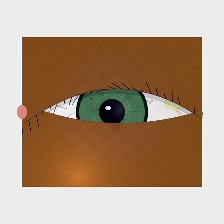pinguecula_lesion: (153, 86, 198, 122)
